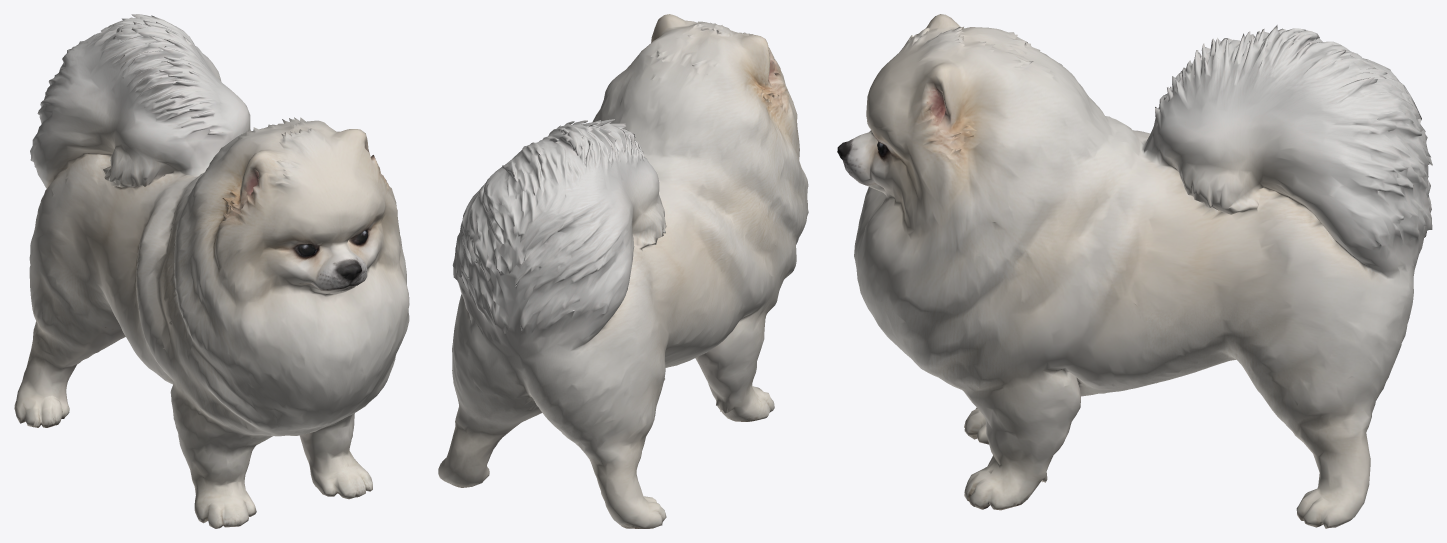
The model's file is pomeranian.glb.
3 renders of one model, left to right at view 1: azimuth 30°, elevation 25°; view 2: azimuth 150°, elevation 25°; view 3: azimuth 270°, elevation 25°, orthographic. The views are drawn at different scales.
Visible parts, largest first — view 1: tripo_node_4f3849cc-2de0-47ec-88d8-4e71d38ef310; view 2: tripo_node_4f3849cc-2de0-47ec-88d8-4e71d38ef310; view 3: tripo_node_4f3849cc-2de0-47ec-88d8-4e71d38ef310.
Part boxes in pixels (bbox=[...]): tripo_node_4f3849cc-2de0-47ec-88d8-4e71d38ef310: bbox=[14, 14, 409, 528]; tripo_node_4f3849cc-2de0-47ec-88d8-4e71d38ef310: bbox=[438, 14, 808, 528]; tripo_node_4f3849cc-2de0-47ec-88d8-4e71d38ef310: bbox=[837, 14, 1432, 528].
Bounding box in the file's own units: 0.5118 × 0.8073 × 1.
Materials: 1 (1 with a texture image).
